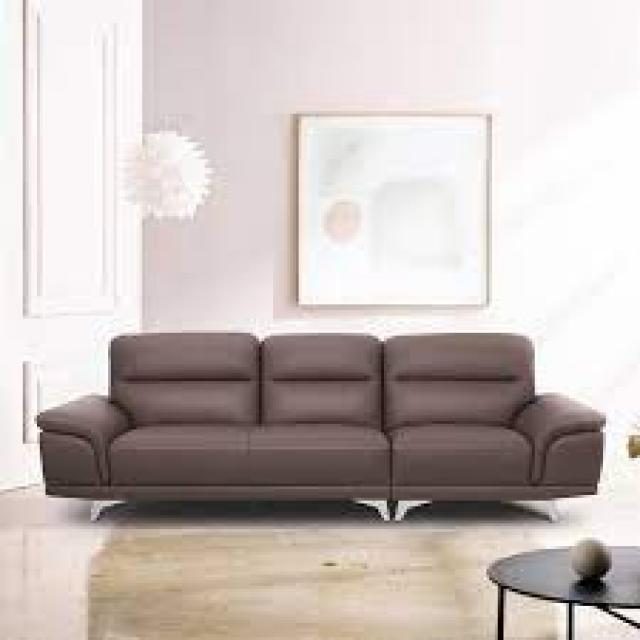Sofa: (13, 314, 636, 538)
